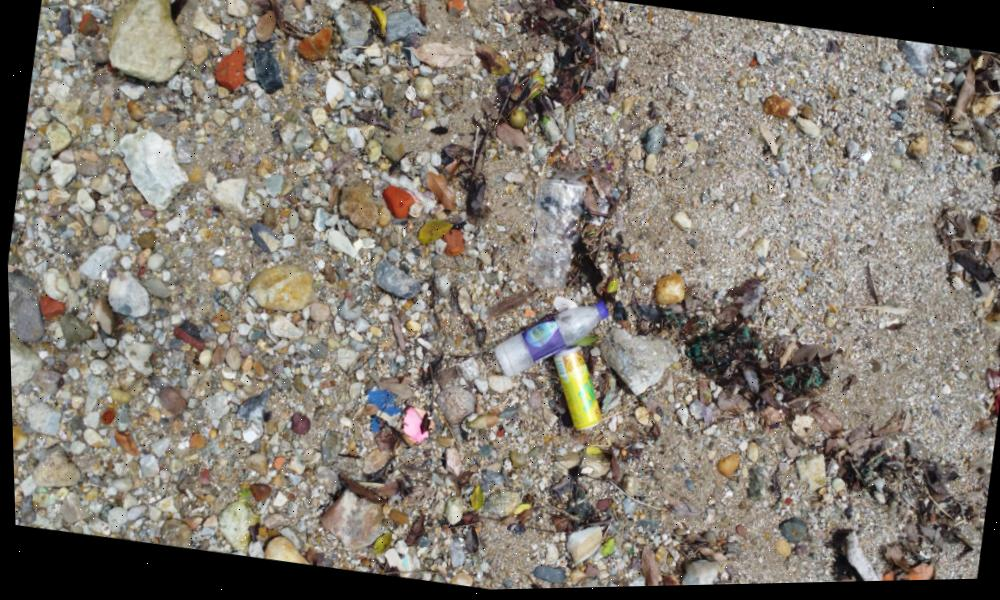can: (540, 343, 606, 441)
plastic bottle: (485, 289, 606, 393)
